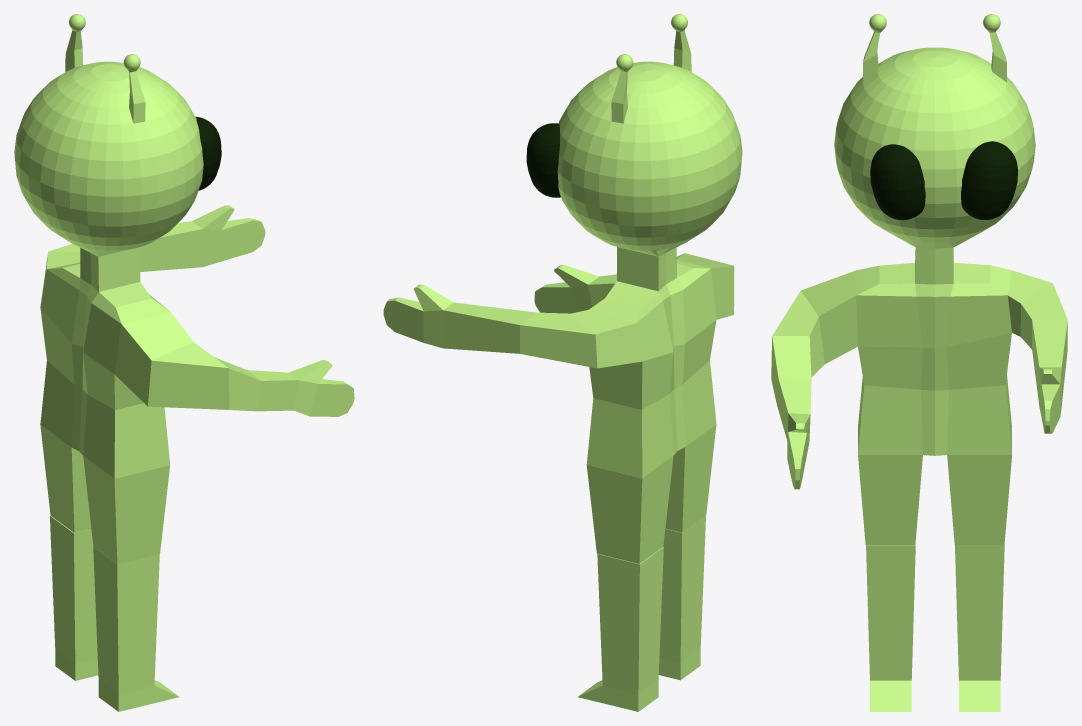
File: COLOR_V3.fbx
The picture shows the model from 3 angles, left to right: view 1: azimuth 30°, elevation 25°; view 2: azimuth 150°, elevation 25°; view 3: azimuth 270°, elevation 25°; orthographic projection. The views are drawn at different scales.
Visible parts, largest first — view 1: ylä kroppa, Sääri L, Reisi L, Sääri R, Reisi R, simmut; view 2: ylä kroppa, Sääri R, Reisi R, Sääri L, Reisi L, simmut; view 3: ylä kroppa, Sääri L, Sääri R, simmut, Reisi R, Reisi L.
Part boxes in pixels (bbox=[...]): ylä kroppa: bbox=[14, 14, 354, 478]; Sääri L: bbox=[93, 547, 179, 711]; Reisi L: bbox=[83, 456, 169, 564]; Sääri R: bbox=[50, 515, 98, 680]; Reisi R: bbox=[40, 425, 91, 532]; simmut: bbox=[195, 116, 221, 190]; ylä kroppa: bbox=[383, 14, 742, 478]; Sääri R: bbox=[578, 547, 663, 711]; Reisi R: bbox=[586, 456, 673, 563]; Sääri L: bbox=[658, 515, 705, 680]; Reisi L: bbox=[665, 424, 716, 532]; simmut: bbox=[526, 123, 560, 197]; ylä kroppa: bbox=[771, 14, 1067, 489]; Sääri L: bbox=[866, 544, 915, 711]; Sääri R: bbox=[955, 545, 1004, 711]; simmut: bbox=[870, 141, 1017, 220]; Reisi R: bbox=[947, 455, 1011, 544]; Reisi L: bbox=[858, 455, 922, 544].
Size of the model in its own units: 539 by 1153 by 459.
